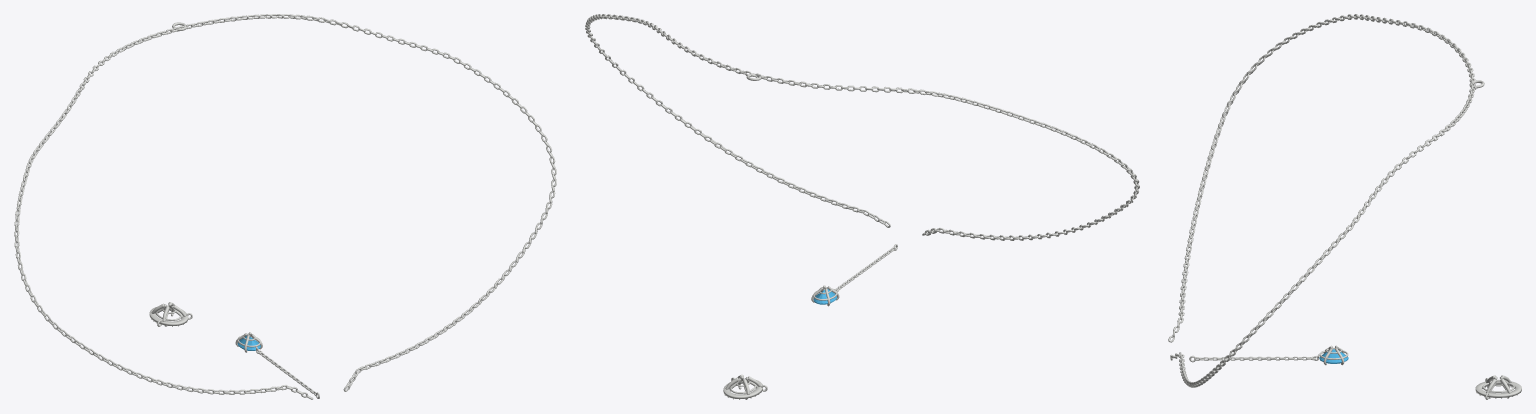
Rendered from Necklace_OvalLariat.fbx.
The picture shows the model from 3 angles, left to right: view 1: azimuth 30°, elevation 25°; view 2: azimuth 150°, elevation 25°; view 3: azimuth 270°, elevation 25°; orthographic projection. The views are drawn at different scales.
Visible parts, largest first — view 1: Chain, Drop_Chain_Center; view 2: Chain, Drop_Chain_Center, Halo_Frame; view 3: Chain, Drop_Chain_Center, Halo_Frame.
Boxes of the visible parts, left/top/right/bottom form: Chain: left=14, top=14, right=556, bottom=399; Drop_Chain_Center: left=235, top=332, right=319, bottom=398; Chain: left=585, top=14, right=1139, bottom=240; Drop_Chain_Center: left=811, top=244, right=897, bottom=306; Halo_Frame: left=723, top=374, right=762, bottom=399; Chain: left=1168, top=14, right=1475, bottom=387; Drop_Chain_Center: left=1189, top=345, right=1348, bottom=365; Halo_Frame: left=1475, top=375, right=1521, bottom=398.
Bounding box in the file's own units: 0.1726 × 0.095 × 0.0973.
